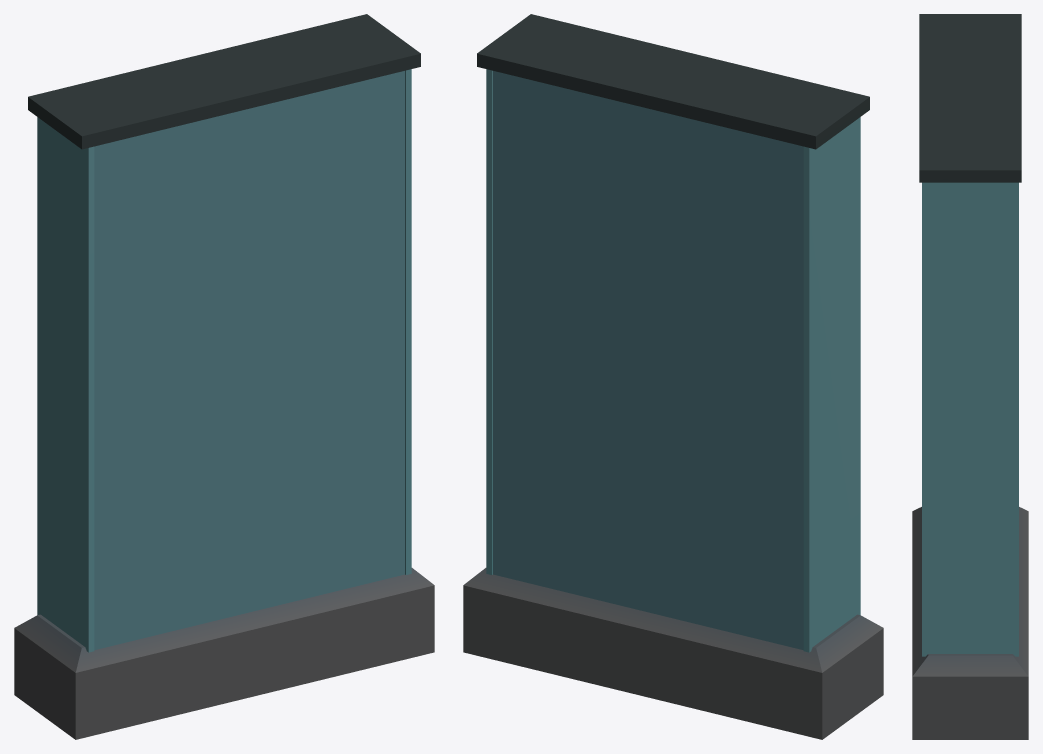
3 renders of one model, left to right at view 1: azimuth 30°, elevation 25°; view 2: azimuth 150°, elevation 25°; view 3: azimuth 270°, elevation 25°, orthographic. The views are drawn at different scales.
Parts seen in each view (by area): view 1: upright_panel, plinth, side_edging.001, top_cap, side_edging; view 2: upright_panel, plinth, side_edging.001, top_cap, side_edging; view 3: side_edging, top_cap, plinth.
Part boxes in pixels (x1=…): upright_panel: x1=94, y1=71, x2=404, y2=650; plinth: x1=14, y1=568, x2=434, y2=739; side_edging.001: x1=37, y1=117, x2=94, y2=652; top_cap: x1=28, y1=14, x2=420, y2=149; side_edging: x1=405, y1=69, x2=411, y2=574; upright_panel: x1=493, y1=71, x2=803, y2=650; plinth: x1=463, y1=568, x2=883, y2=739; side_edging.001: x1=803, y1=117, x2=860, y2=652; top_cap: x1=477, y1=14, x2=869, y2=149; side_edging: x1=486, y1=69, x2=492, y2=574; side_edging: x1=922, y1=182, x2=1018, y2=656; top_cap: x1=919, y1=14, x2=1021, y2=182; plinth: x1=912, y1=507, x2=1028, y2=739.
Size of the model in its own units: 1.26 by 2 by 0.3723.
